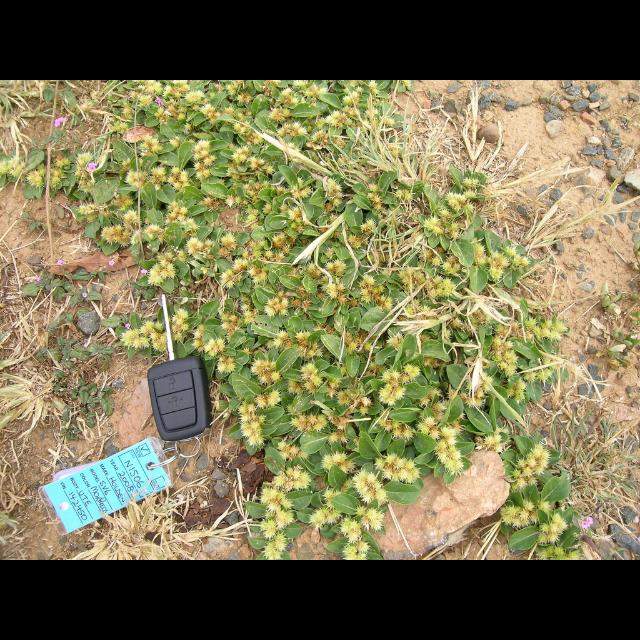Flower: (216, 350, 248, 376), (86, 161, 94, 171), (106, 258, 114, 268), (579, 520, 587, 530), (140, 267, 148, 275), (52, 119, 59, 128), (586, 515, 592, 525), (82, 292, 88, 300), (58, 260, 64, 266), (59, 117, 66, 121), (35, 278, 41, 282), (126, 323, 130, 329)
